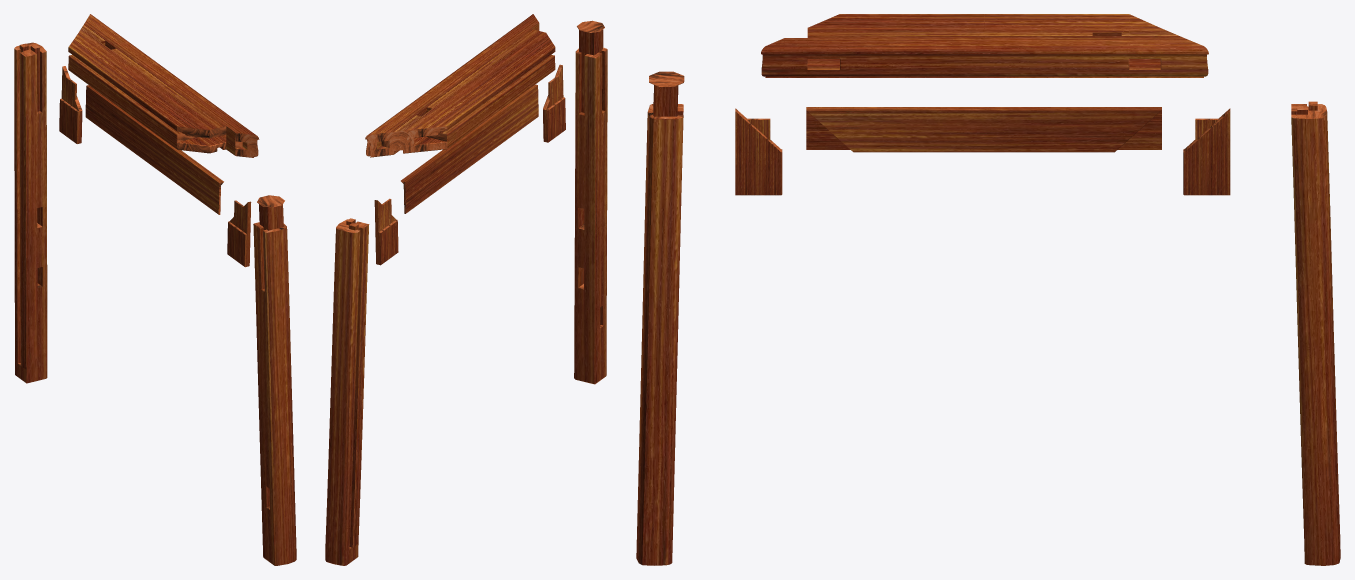
The model's file is GMY_J_motou_01.FBX.
3 views of the same model, side by side, from view 1: azimuth 30°, elevation 25°; view 2: azimuth 150°, elevation 25°; view 3: azimuth 270°, elevation 25° (orthographic). The views are drawn at different scales.
Visible parts, largest first — view 1: GMY_J_houtui_01, GMY_J_motou_01, GMY_J_qiantui_01, GMY_J_houyatou_01_02, GMY_J_ceyatou_01_02, GMY_J_ceyatou_01_01; view 2: GMY_J_houtui_01, GMY_J_qiantui_01, GMY_J_motou_01, GMY_J_houyatou_01_02, GMY_J_ceyatou_01_01, GMY_J_ceyatou_01_02; view 3: GMY_J_motou_01, GMY_J_houtui_01, GMY_J_qiantui_01, GMY_J_houyatou_01_02, GMY_J_ceyatou_01_02, GMY_J_ceyatou_01_01.
Boxes of the visible parts, box(x1,y1,x2,y2) form: GMY_J_houtui_01: box(253, 195, 296, 565); GMY_J_motou_01: box(68, 14, 259, 157); GMY_J_qiantui_01: box(14, 42, 47, 383); GMY_J_houyatou_01_02: box(85, 85, 223, 214); GMY_J_ceyatou_01_02: box(59, 66, 82, 143); GMY_J_ceyatou_01_01: box(227, 200, 251, 267); GMY_J_houtui_01: box(574, 20, 607, 384); GMY_J_qiantui_01: box(325, 218, 369, 565); GMY_J_motou_01: box(365, 14, 555, 157); GMY_J_houyatou_01_02: box(401, 84, 538, 213); GMY_J_ceyatou_01_01: box(543, 64, 565, 142); GMY_J_ceyatou_01_02: box(374, 198, 398, 265); GMY_J_motou_01: box(761, 14, 1208, 77); GMY_J_houtui_01: box(636, 71, 684, 565); GMY_J_qiantui_01: box(1291, 101, 1340, 565); GMY_J_houyatou_01_02: box(806, 107, 1161, 152); GMY_J_ceyatou_01_02: box(1183, 108, 1230, 195); GMY_J_ceyatou_01_01: box(735, 108, 782, 195).
Bounding box in the file's own units: 8.16 × 57.65 × 70.5.
